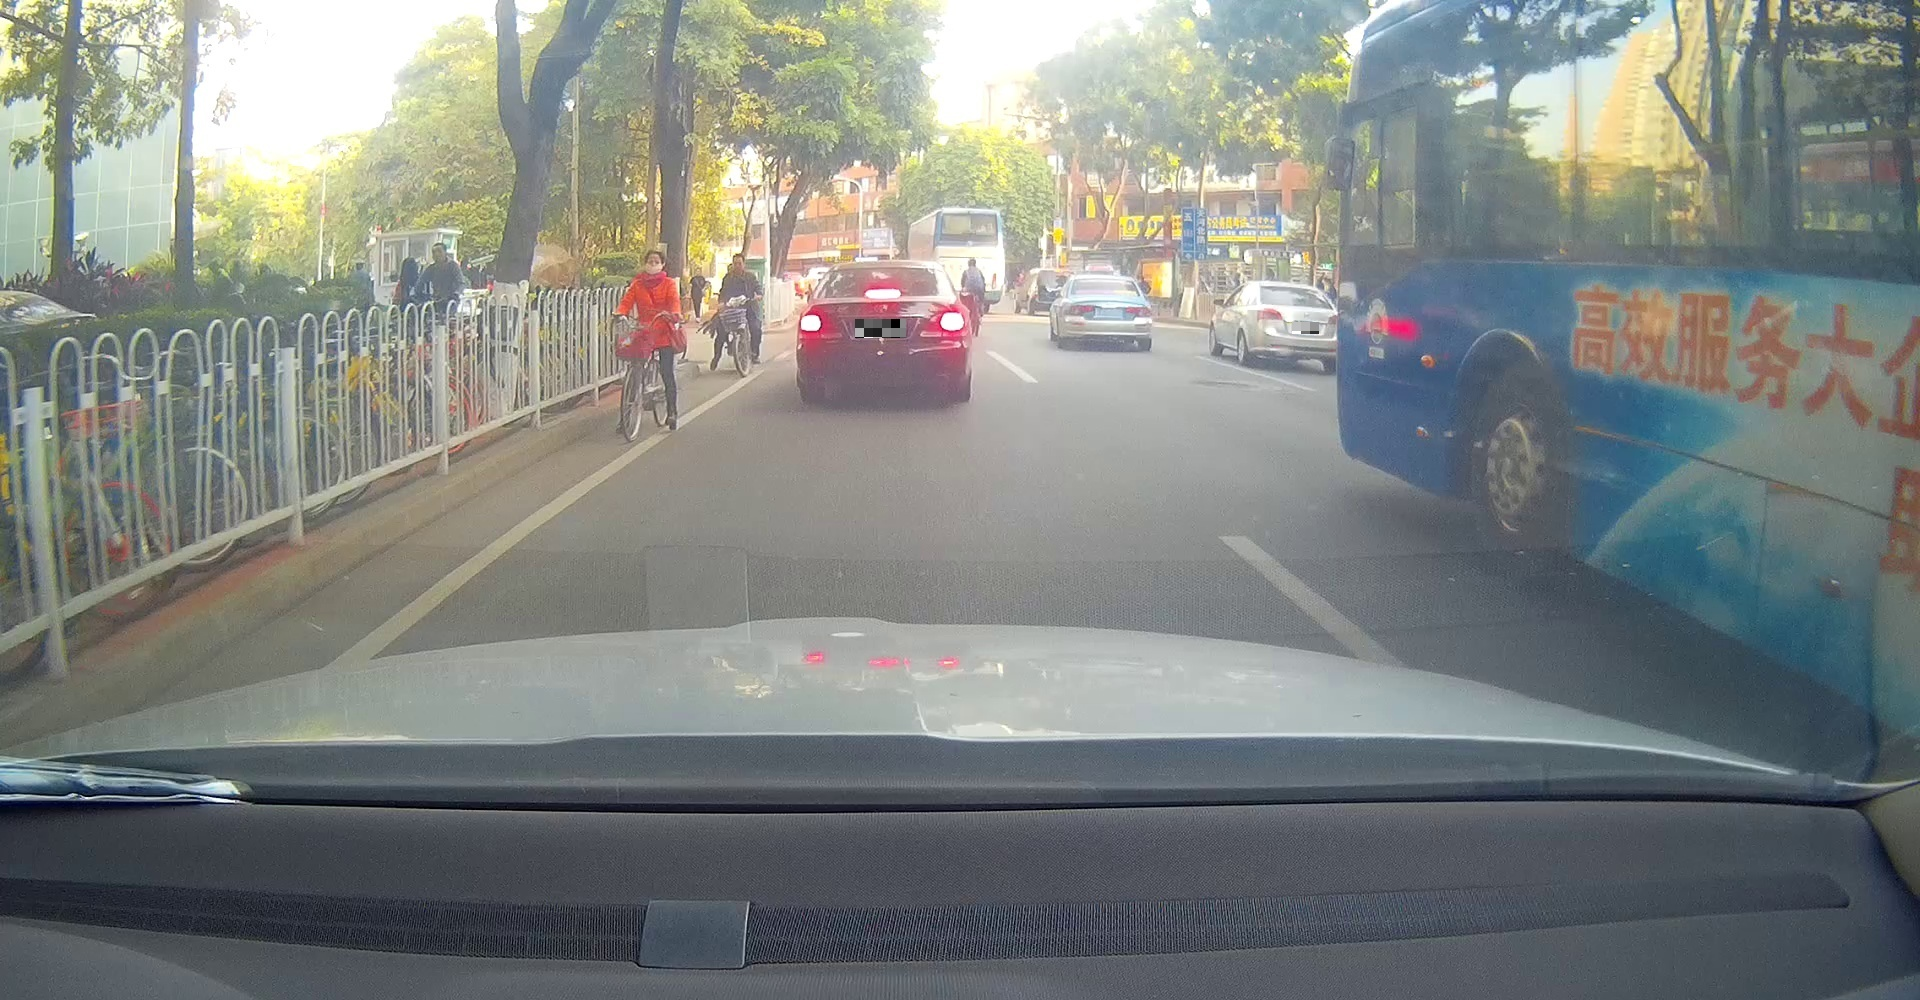L_light: (797, 308, 842, 339), (1256, 307, 1283, 321), (1068, 305, 1095, 315)
R_light: (919, 305, 970, 338), (1125, 306, 1150, 319), (1327, 313, 1337, 325)
T_light: (863, 289, 902, 299), (1289, 287, 1303, 292), (1098, 279, 1112, 282)
day-brake: (796, 258, 970, 402)
day-no: (1251, 280, 1338, 374), (1062, 275, 1152, 352)
plate_1: (855, 319, 905, 338)
plate_2: (1291, 322, 1319, 334)
